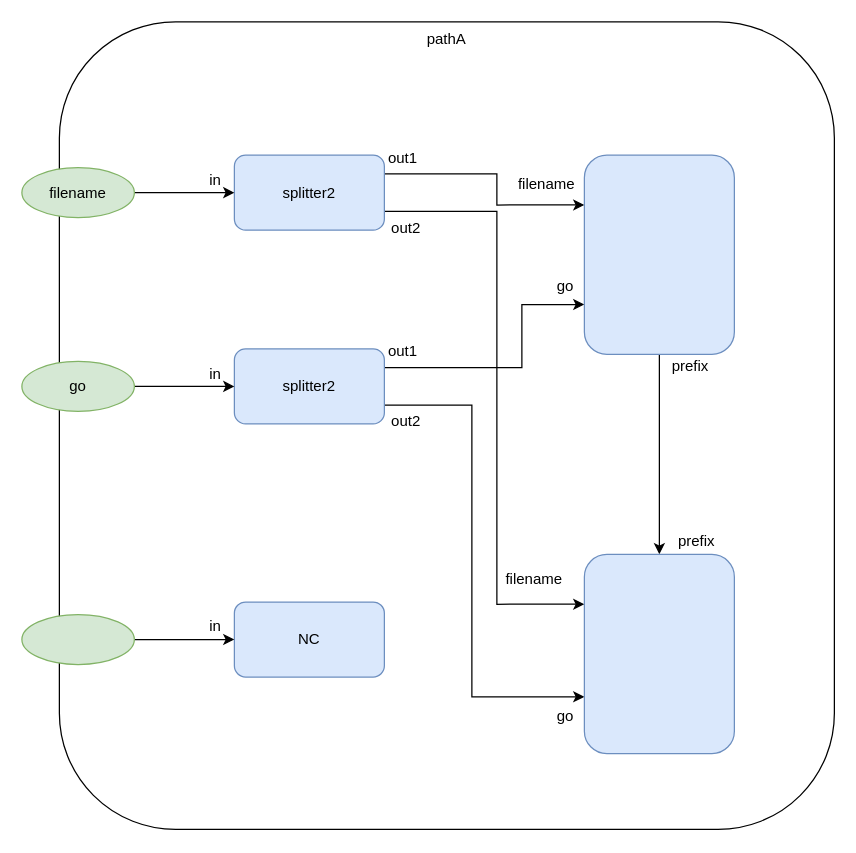
Some shapes in this 856 by 853 pixel diagram are drawn without their labels. The box of each missing label's shape, as (x1, y1, x2, y2) in pixels:
content: (21, 613, 134, 664)
create file prefix: (583, 154, 734, 354)
move to _posts: (583, 553, 734, 754)
